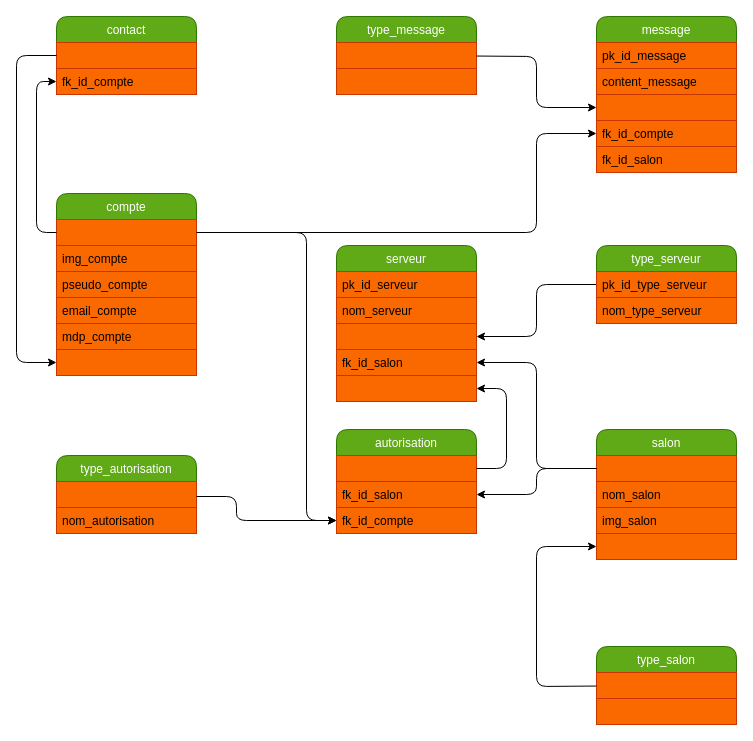
This 753x741 diagram has some shape labels left out. Here are the shapes that lost their labels. From the top down, the box of each, then its label:
(56, 42, 196, 68): pk_id_contact
(336, 42, 476, 68): pk_id_type_message
(336, 68, 476, 94): nom_type_message
(596, 94, 736, 120): fk_id_type_message
(56, 218, 196, 246): pk_id_compte
(336, 322, 476, 350): fk_id_type_serveur
(56, 348, 196, 376): fk_id_contact
(336, 374, 476, 402): fk_id_autorisation
(336, 454, 476, 482): pk_id_autorisation
(596, 454, 736, 482): pk_id_salon
(56, 480, 196, 508): pk_id_type_autorisation
(596, 532, 736, 560): fk_id_type_salon
(596, 672, 736, 698): pk_id_type_salon
(596, 698, 736, 724): nom_type_salon
